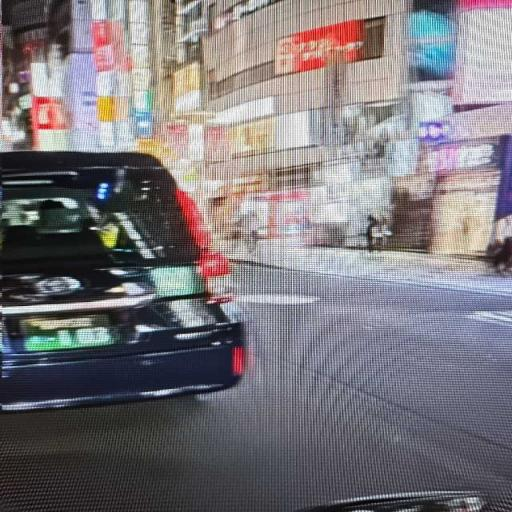car: (2, 152, 243, 411)
lane: (0, 268, 511, 511), (241, 269, 511, 475)
person: (2, 106, 24, 152), (240, 211, 258, 252), (493, 236, 511, 271), (366, 215, 379, 253), (380, 219, 392, 249)
